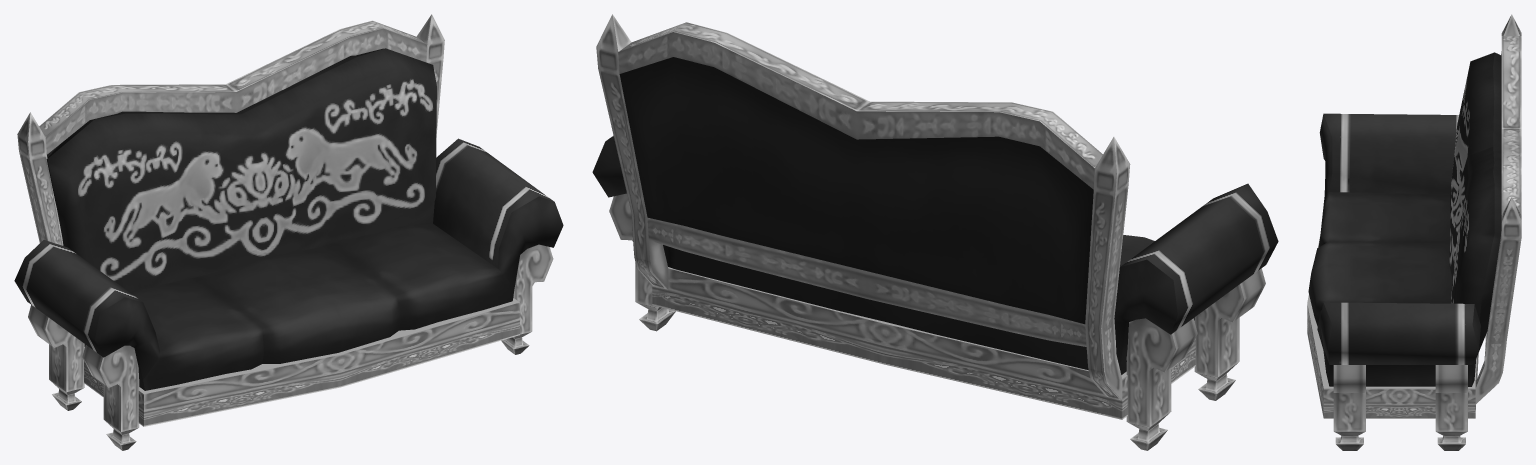
File: KingSofa_HD.fbx
3 renders of one model, left to right at view 1: azimuth 30°, elevation 25°; view 2: azimuth 150°, elevation 25°; view 3: azimuth 270°, elevation 25°, orthographic. The views are drawn at different scales.
Parts seen in each view (by area): view 1: KingSofa; view 2: KingSofa; view 3: KingSofa.
Boxes of the visible parts, left/top/right/bottom form: KingSofa: left=14, top=14, right=563, bottom=450; KingSofa: left=592, top=14, right=1278, bottom=450; KingSofa: left=1307, top=14, right=1521, bottom=450.
Bounding box in the file's own units: 1.98 × 1.12 × 0.8429.
